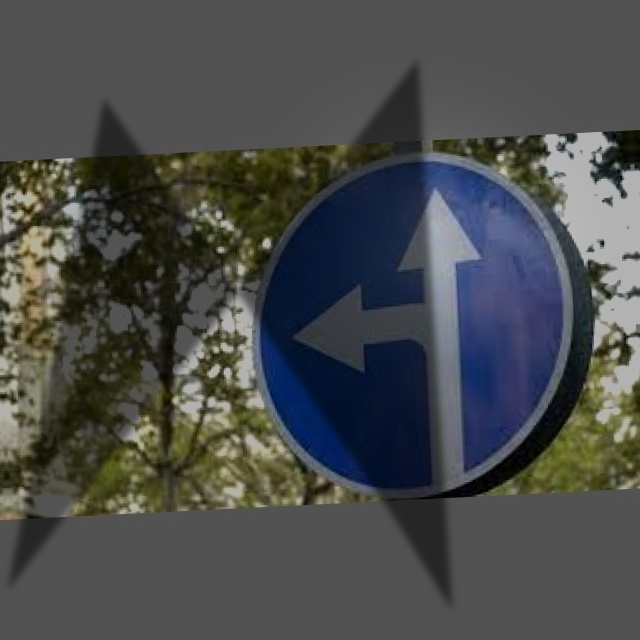Compulsory_Ahead_or_Turn_Left: (251, 164, 593, 486)
